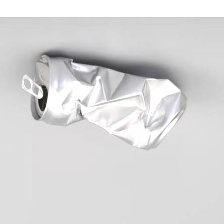can: (16, 46, 199, 153)
